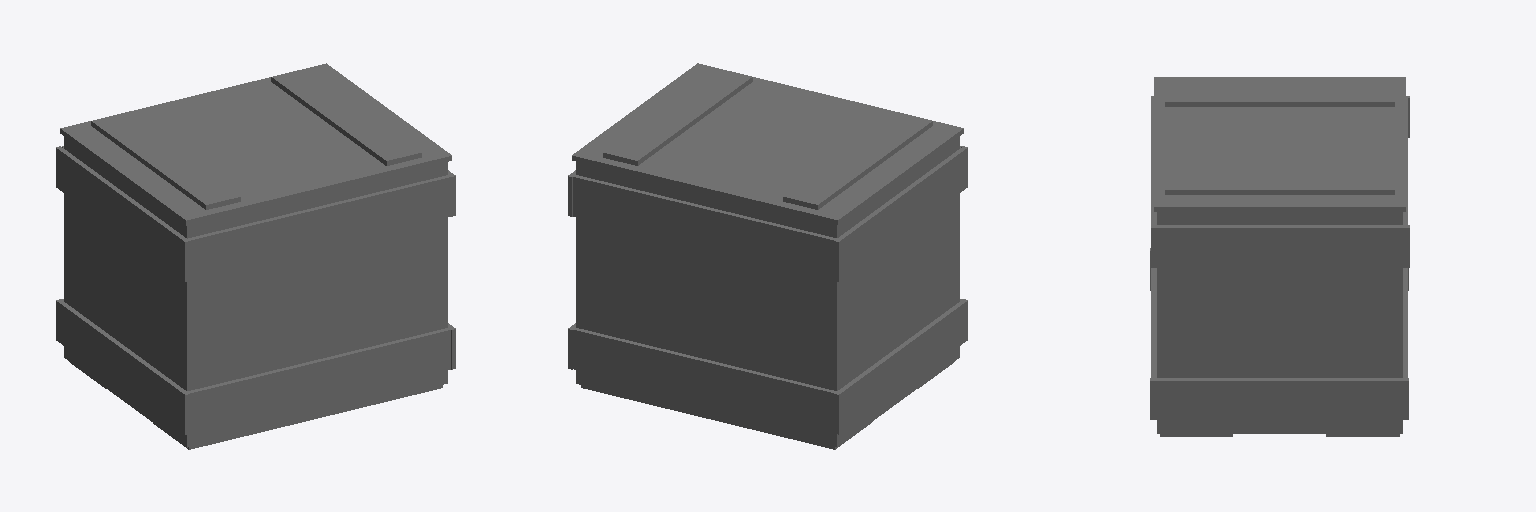
The model's file is woode_crate_whole.mtl.obj.
3 renders of one model, left to right at view 1: azimuth 30°, elevation 25°; view 2: azimuth 150°, elevation 25°; view 3: azimuth 270°, elevation 25°, orthographic.
Parts seen in each view (by area): view 1: Crate_Piece_016_Mesh.015, Crate_Piece_015_Mesh.014, Crate_Piece_014_Mesh.013, Crate_Piece_013_Mesh.012, Crate_Piece_012_Mesh.011, Crate_Piece_011_Mesh.010, Crate_Piece_08_Mesh.007, Crate_Piece_06_Mesh.005, Crate_Piece_05_Mesh.004, Crate_Piece_07_Mesh.006, Crate_Piece_019_Mesh.018; view 2: Crate_Piece_018_Mesh.017, Crate_Piece_017_Mesh.016, Crate_Piece_014_Mesh.013, Crate_Piece_013_Mesh.012, Crate_Piece_012_Mesh.011, Crate_Piece_011_Mesh.010, Crate_Piece_08_Mesh.007, Crate_Piece_06_Mesh.005, Crate_Piece_05_Mesh.004, Crate_Piece_07_Mesh.006, Crate_Piece_020_Mesh.019; view 3: Crate_Piece_010_Mesh.009, Crate_Piece_013_Mesh.012, Crate_Piece_014_Mesh.013, Crate_Piece_09_Mesh.008, Crate_Piece_04_Mesh.003, Crate_Piece_01_Mesh, Crate_Piece_02_Mesh.001, Crate_Piece_03_Mesh.002, Crate_Piece_016_Mesh.015, Crate_Piece_018_Mesh.017.
Part boxes in pixels (x1,y1,x2,y2): Crate_Piece_016_Mesh.015: (187,255,450,447); Crate_Piece_015_Mesh.014: (187,162,450,360); Crate_Piece_014_Mesh.013: (60,95,358,225); Crate_Piece_013_Mesh.012: (199,63,451,182); Crate_Piece_012_Mesh.011: (64,137,142,375); Crate_Piece_011_Mesh.010: (90,181,186,446); Crate_Piece_08_Mesh.007: (106,194,189,281); Crate_Piece_06_Mesh.005: (111,347,189,434); Crate_Piece_05_Mesh.004: (56,299,124,386); Crate_Piece_07_Mesh.006: (56,146,124,228); Crate_Piece_019_Mesh.018: (153,385,442,449); Crate_Piece_018_Mesh.017: (573,245,836,446); Crate_Piece_017_Mesh.016: (573,162,836,349); Crate_Piece_014_Mesh.013: (699,86,963,224); Crate_Piece_013_Mesh.012: (572,63,812,190); Crate_Piece_012_Mesh.011: (837,182,916,446); Crate_Piece_011_Mesh.010: (863,137,959,427); Crate_Piece_08_Mesh.007: (889,146,967,239); Crate_Piece_06_Mesh.005: (894,299,967,386); Crate_Piece_05_Mesh.004: (834,347,905,434); Crate_Piece_07_Mesh.006: (834,194,902,281); Crate_Piece_020_Mesh.019: (581,385,871,449); Crate_Piece_010_Mesh.009: (1192,212,1402,433); Crate_Piece_013_Mesh.012: (1154,128,1405,211); Crate_Piece_014_Mesh.013: (1154,77,1405,160); Crate_Piece_09_Mesh.008: (1157,212,1294,433); Crate_Piece_04_Mesh.003: (1151,225,1302,267); Crate_Piece_01_Mesh: (1266,378,1408,419); Crate_Piece_02_Mesh.001: (1150,378,1279,419); Crate_Piece_03_Mesh.002: (1280,225,1409,267); Crate_Piece_016_Mesh.015: (1151,268,1156,377); Crate_Piece_018_Mesh.017: (1403,268,1407,377).
Size of the model in its own units: 1.22 by 1.02 by 1.01.